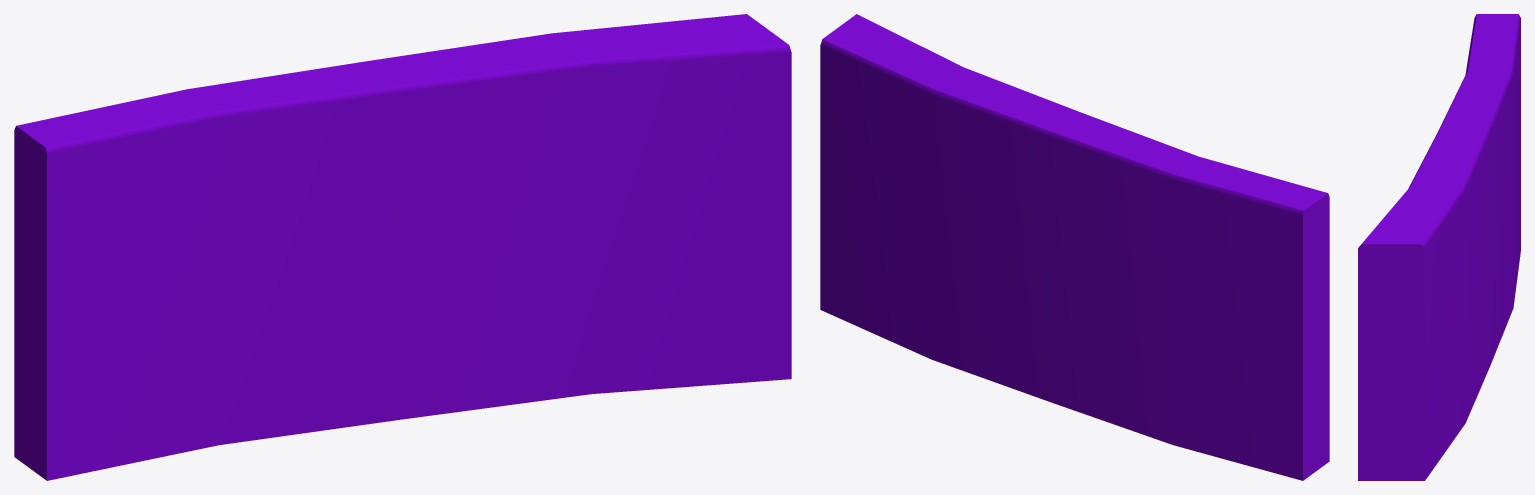
File: RampN_A_Left.fbx
The picture shows the model from 3 angles, left to right: view 1: azimuth 30°, elevation 25°; view 2: azimuth 150°, elevation 25°; view 3: azimuth 270°, elevation 25°; orthographic projection. The views are drawn at different scales.
Parts seen in each view (by area): view 1: RampN_A_Left; view 2: RampN_A_Left; view 3: RampN_A_Left.
Part boxes in pixels (x1=…): RampN_A_Left: x1=14, y1=14, x2=791, y2=480; RampN_A_Left: x1=820, y1=14, x2=1329, y2=480; RampN_A_Left: x1=1358, y1=14, x2=1520, y2=480.
Size of the model in its own units: 6.07 by 2.91 by 1.81.
